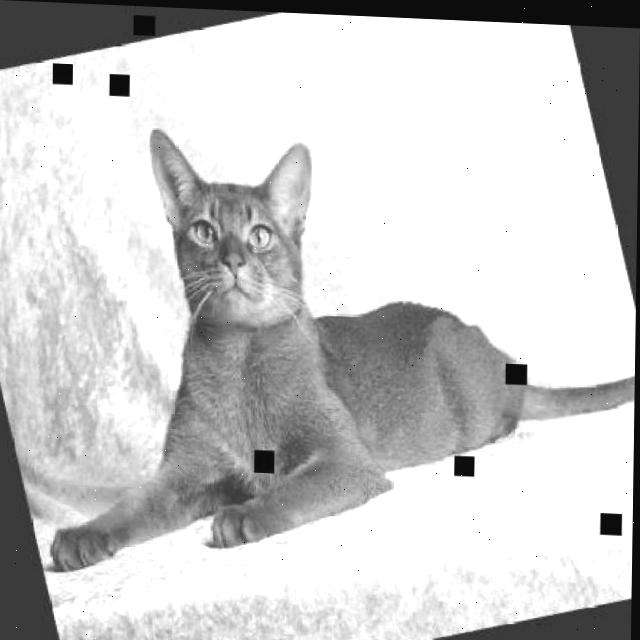Cat: (0, 18, 638, 611)
